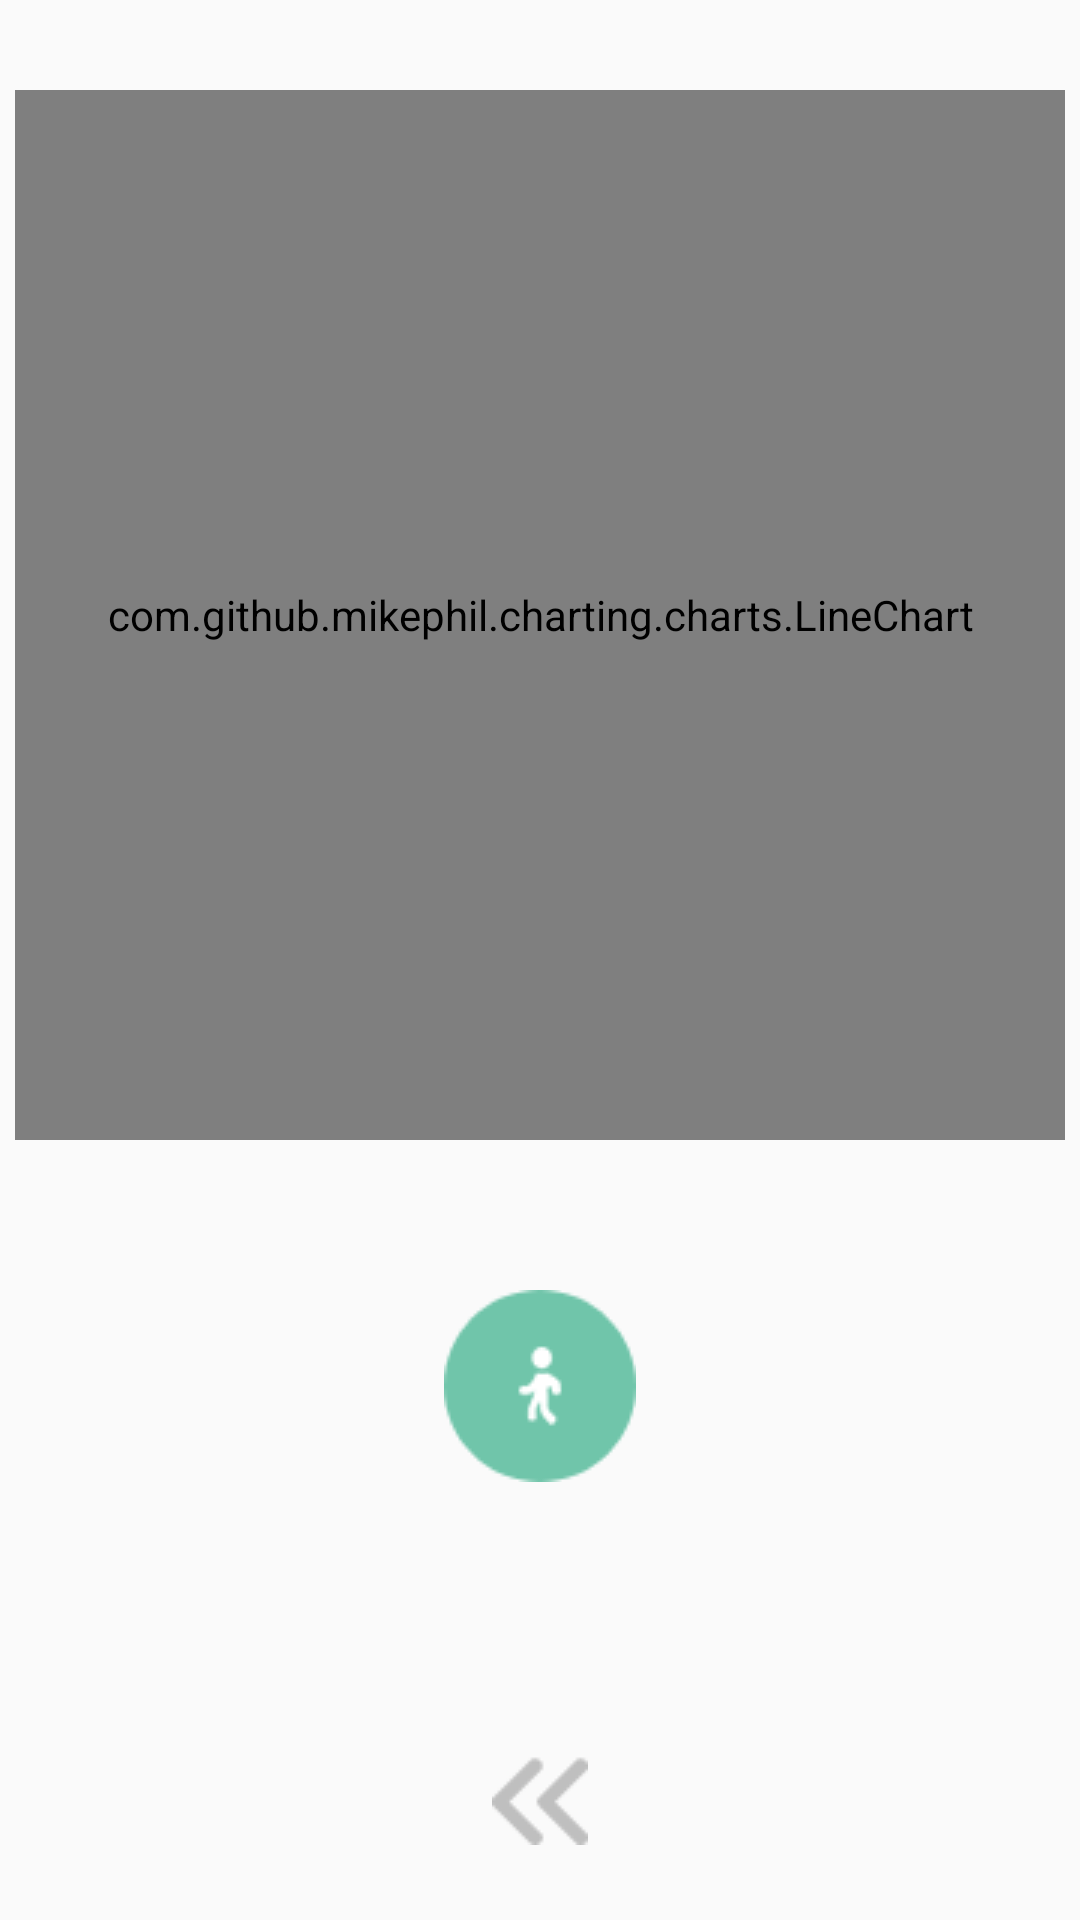

Point at icon controls on the screen. Image size 1080 × 1920, points as (x,y).
back: (540,1801)
walk: (540,1386)
